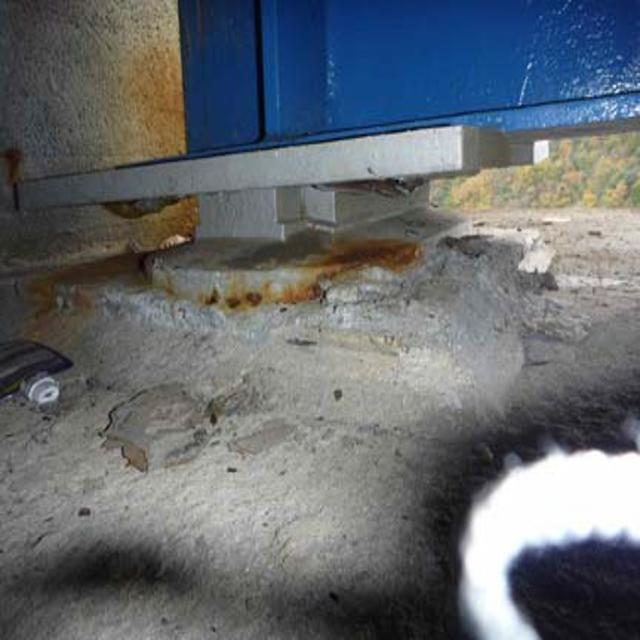corrosion: (7, 136, 419, 317)
